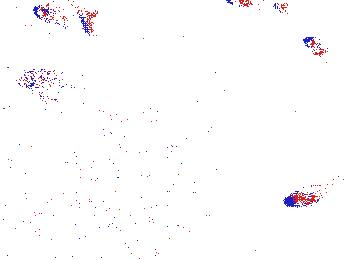X-ray fish: (13, 67, 87, 104)
red belly glassfish: (283, 176, 343, 208), (302, 35, 343, 66)
redtail glassfish: (31, 1, 99, 37), (223, 1, 290, 15)
